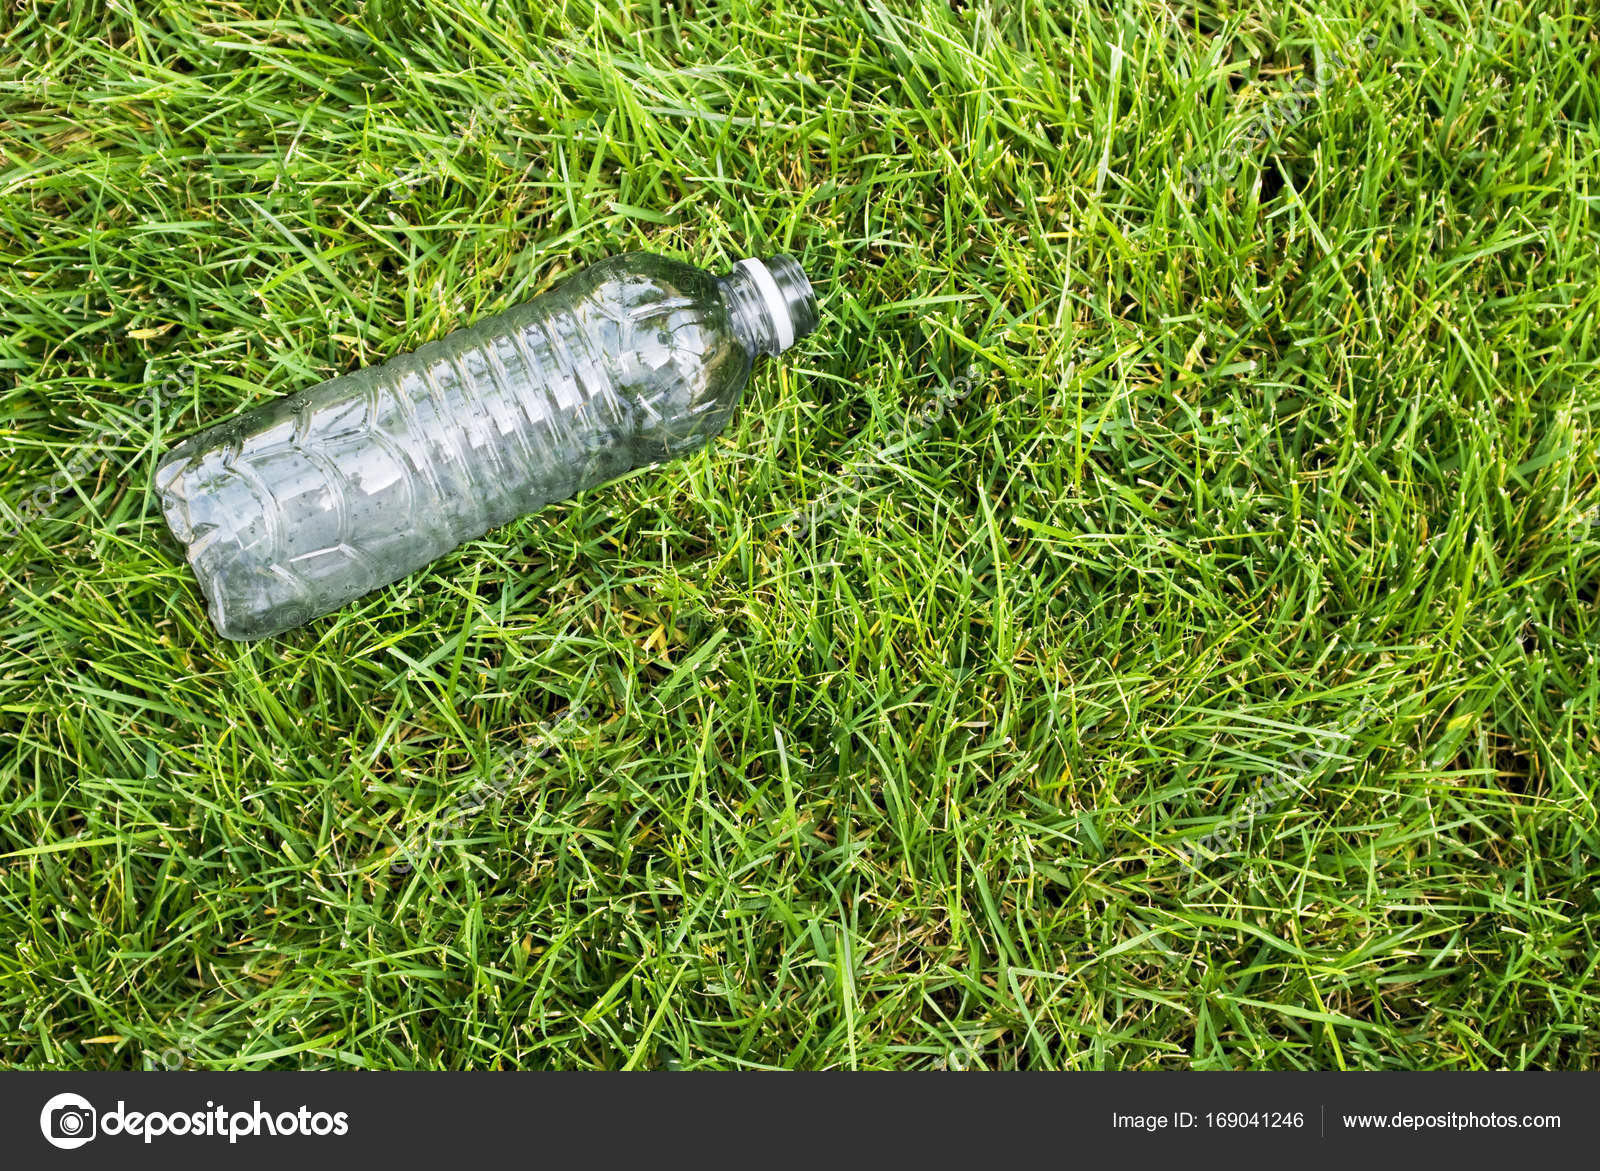plastic_bottle: (134, 232, 839, 644)
